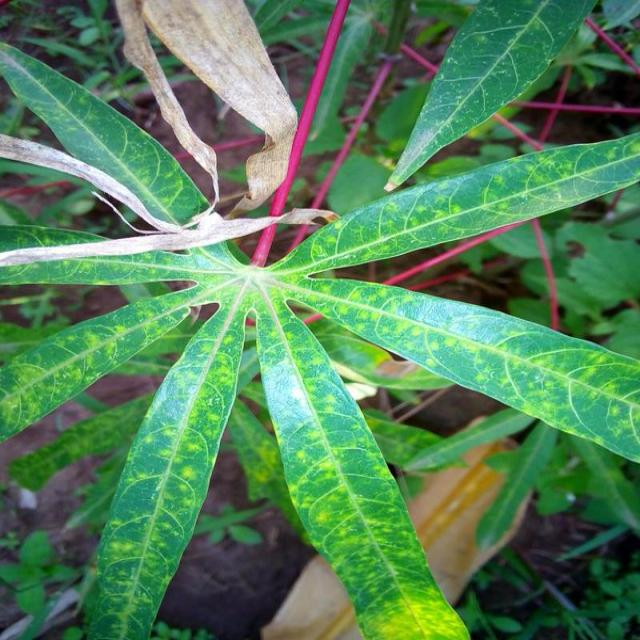cassava leaf: (2, 2, 639, 637), (255, 281, 473, 638), (86, 278, 251, 638), (384, 0, 598, 192)
